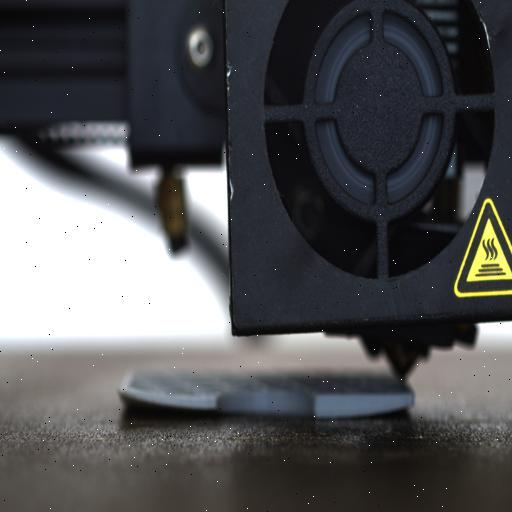warp: (118, 381, 208, 421), (347, 394, 417, 424)
